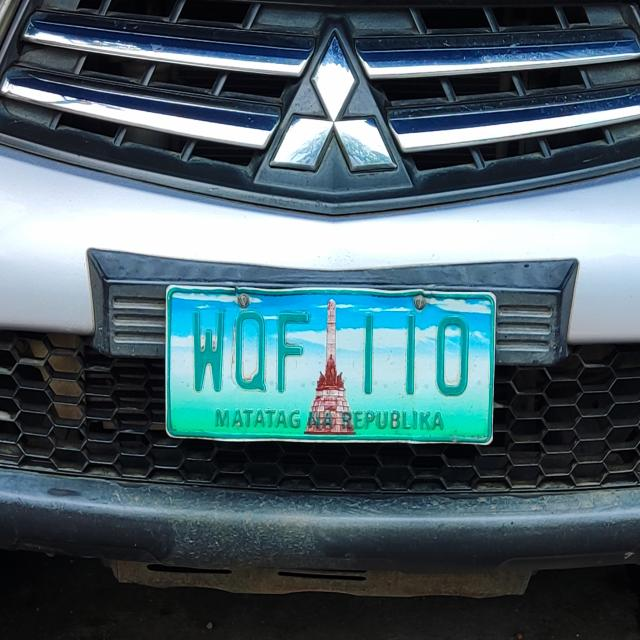plate: (162, 280, 500, 450)
